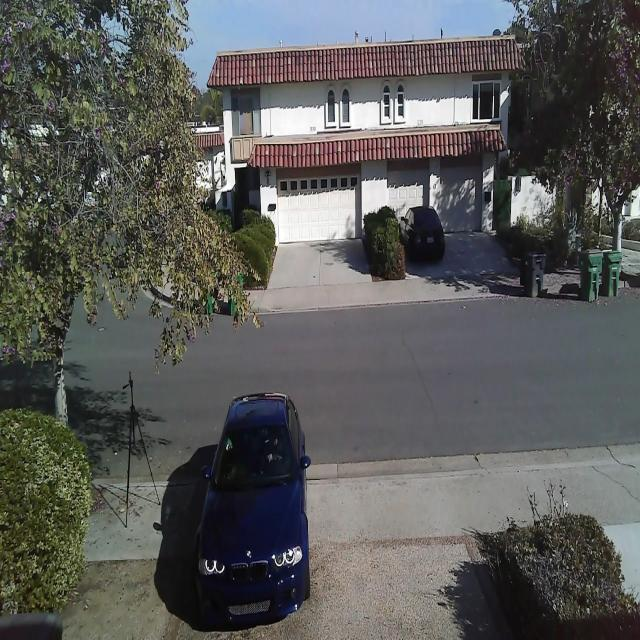Carbeetle: (182, 376, 331, 634)
